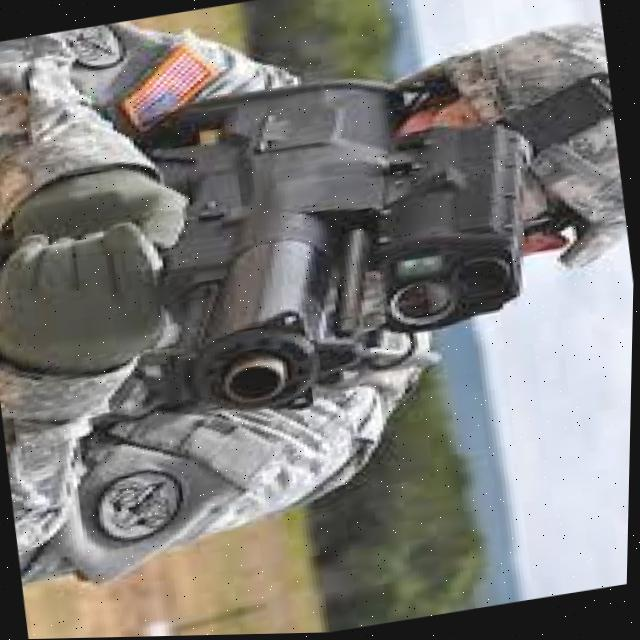firearm: (122, 60, 545, 429)
